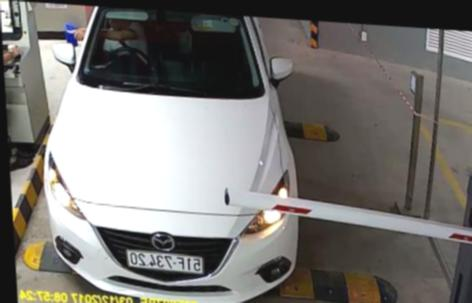License_Plate: (125, 248, 206, 279)
